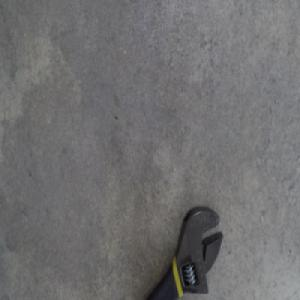AdjustableWrench: (144, 204, 224, 299)
